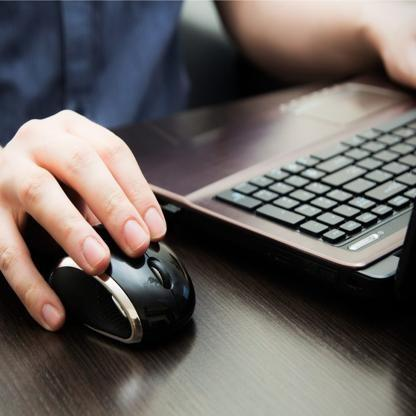not trash: (135, 76, 416, 336), (36, 221, 199, 360)
